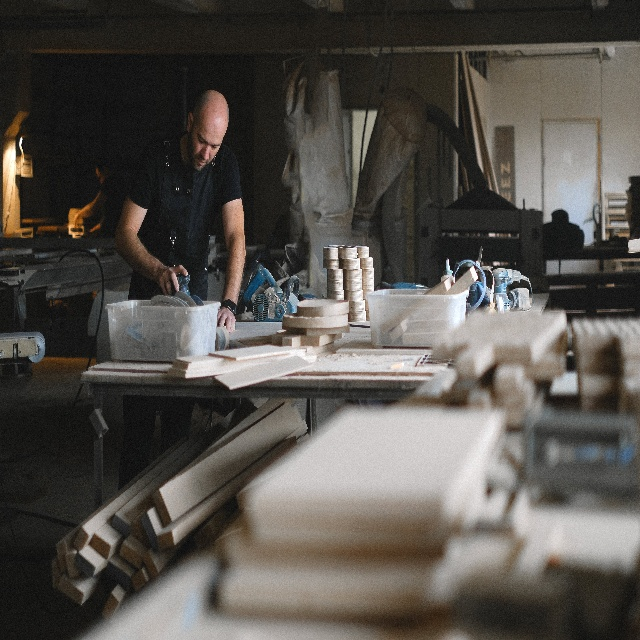Sin_guantes: (150, 262, 229, 350), (216, 306, 236, 335)
